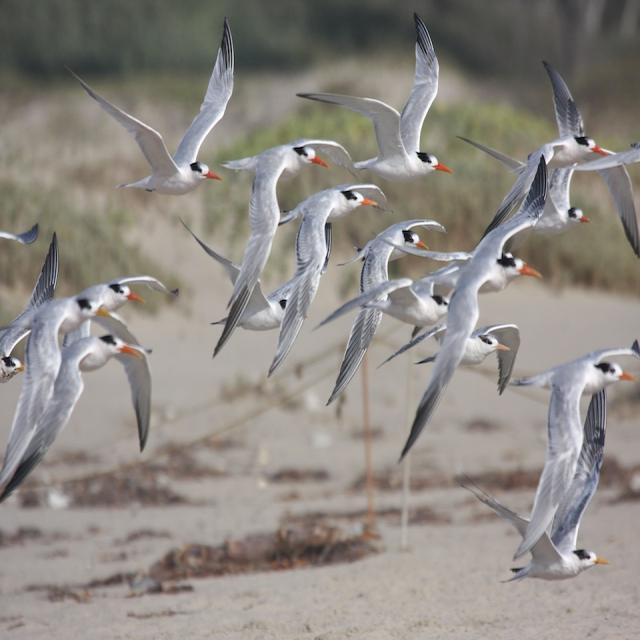bird: (380, 184, 572, 464), (481, 346, 640, 597), (1, 261, 154, 498), (189, 134, 325, 357), (294, 8, 456, 188), (85, 25, 241, 200), (265, 175, 364, 381), (476, 321, 526, 392)
